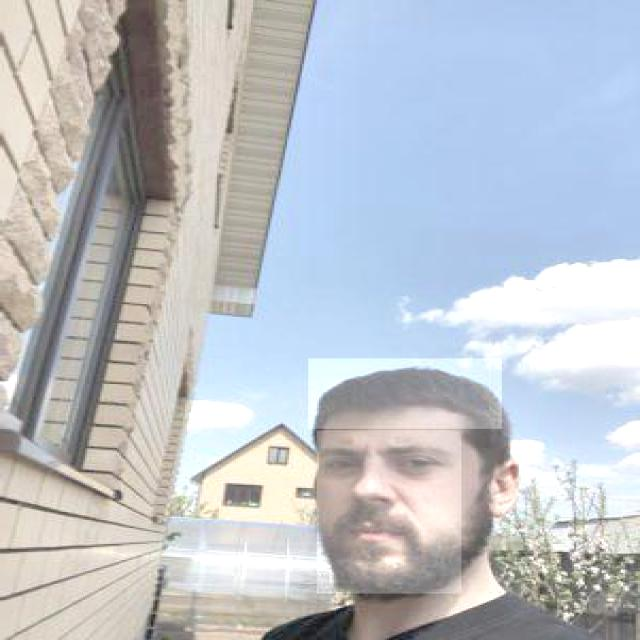face_nomask: (315, 430, 461, 596)
head_nohelmet: (306, 358, 502, 431)
person: (247, 365, 593, 640)
